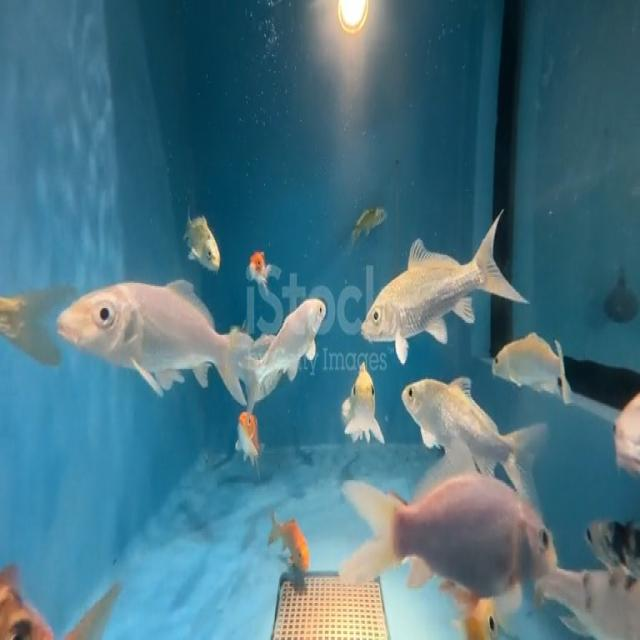fish: (50, 266, 264, 430), (337, 464, 564, 610), (345, 200, 539, 367), (395, 360, 556, 489), (246, 281, 330, 397), (482, 311, 577, 408), (578, 475, 640, 573), (260, 498, 318, 584), (343, 359, 388, 452), (602, 366, 640, 472), (182, 200, 225, 278), (349, 197, 398, 254), (457, 585, 500, 639), (230, 406, 267, 464), (248, 235, 274, 303)
